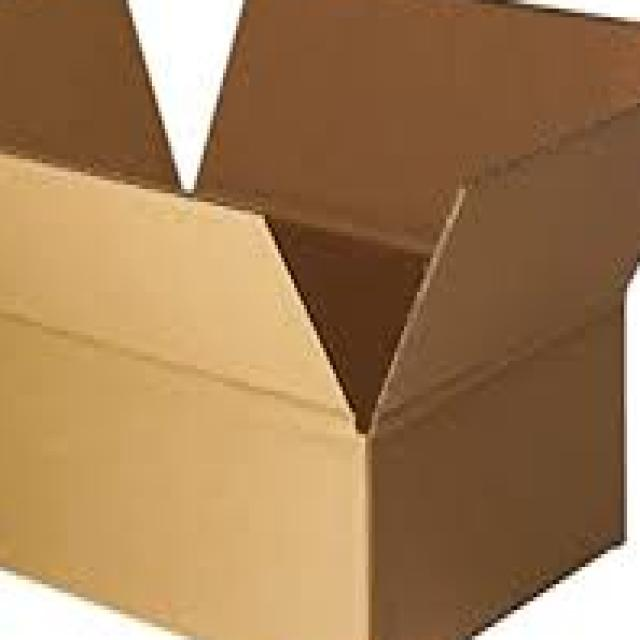organic: (5, 4, 622, 623)
